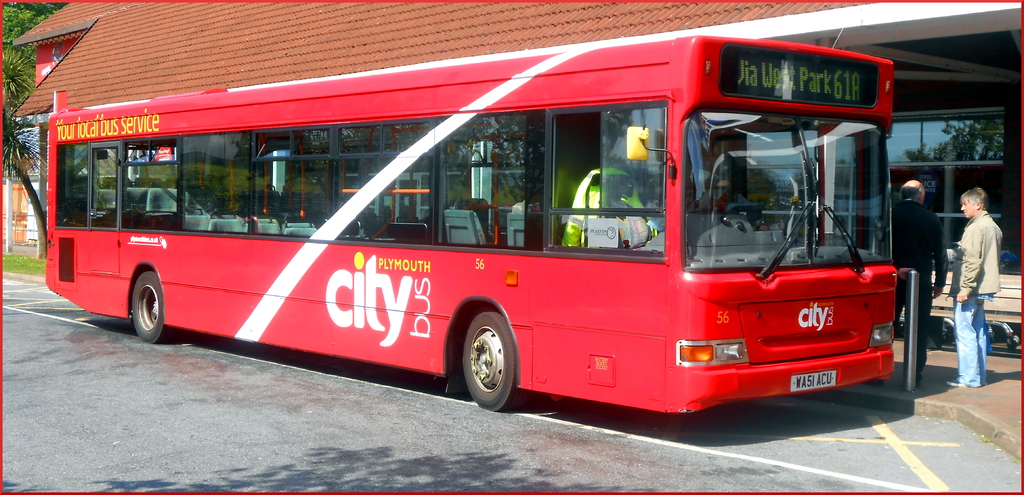Person: (891, 180, 948, 381)
